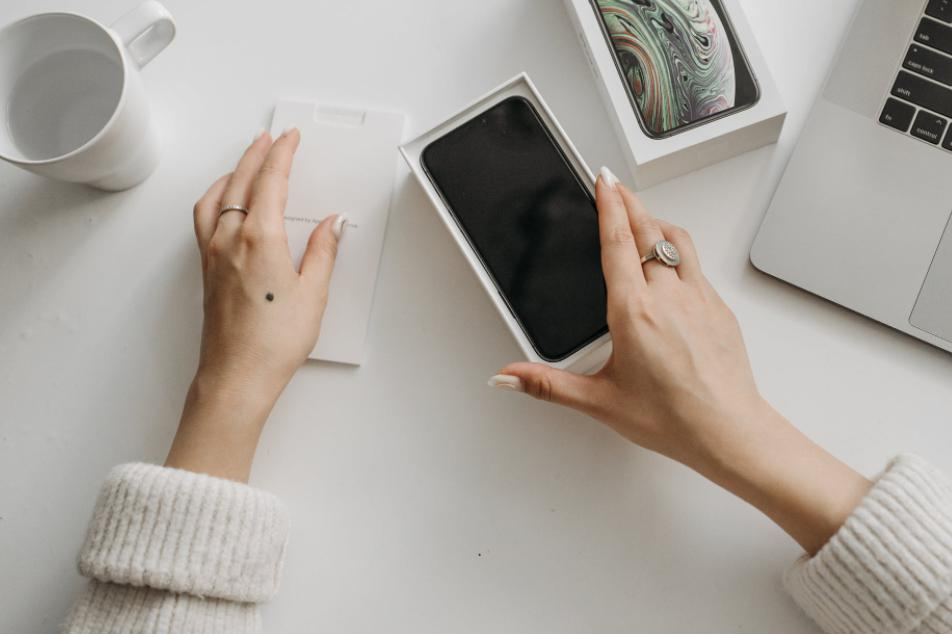mobile: (420, 95, 621, 362)
